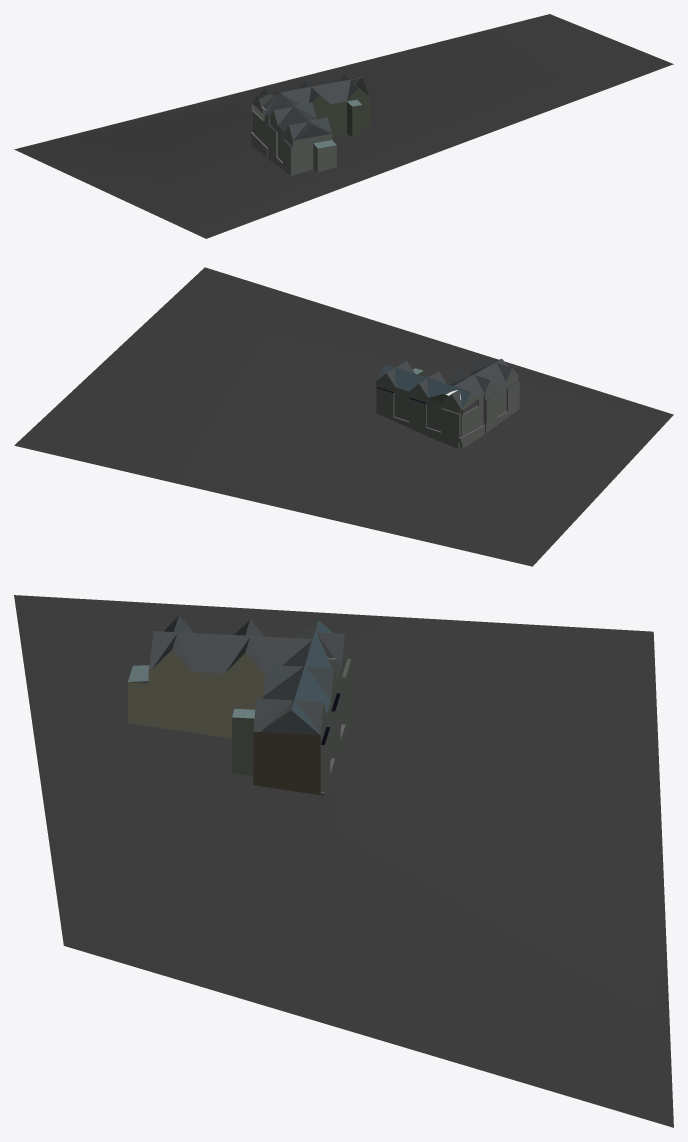
File: riverset-apartment-complex-bld-1.glb
3 renders of one model, top to bottom at view 1: azimuth 30°, elevation 25°; view 2: azimuth 150°, elevation 25°; view 3: azimuth 270°, elevation 25°, orthographic. The views are drawn at different scales.
Parts seen in each view (by area): view 1: LOD0; view 2: LOD0; view 3: LOD0.
Part boxes in pixels (<box>): LOD0: <box>14,14,673,238</box>; LOD0: <box>14,267,673,566</box>; LOD0: <box>14,595,673,1127</box>.
Size of what is drawn, in the model's own units: 196 by 28.26 by 110.
Materials: 2 (2 with a texture image).
